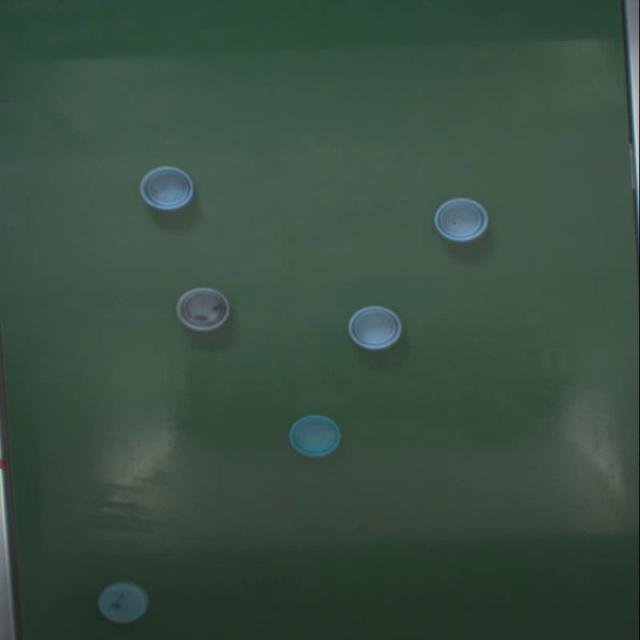light blue: (140, 166, 194, 210), (436, 199, 489, 243), (176, 288, 230, 331), (288, 415, 342, 458), (348, 307, 402, 350), (96, 582, 149, 624)
